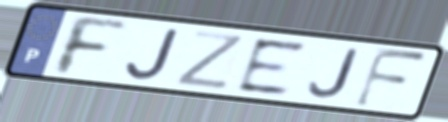E: (234, 36, 310, 97)
F: (350, 45, 431, 111), (52, 12, 131, 78)
J: (123, 25, 185, 82), (305, 47, 362, 101)
Z: (171, 28, 248, 92)
